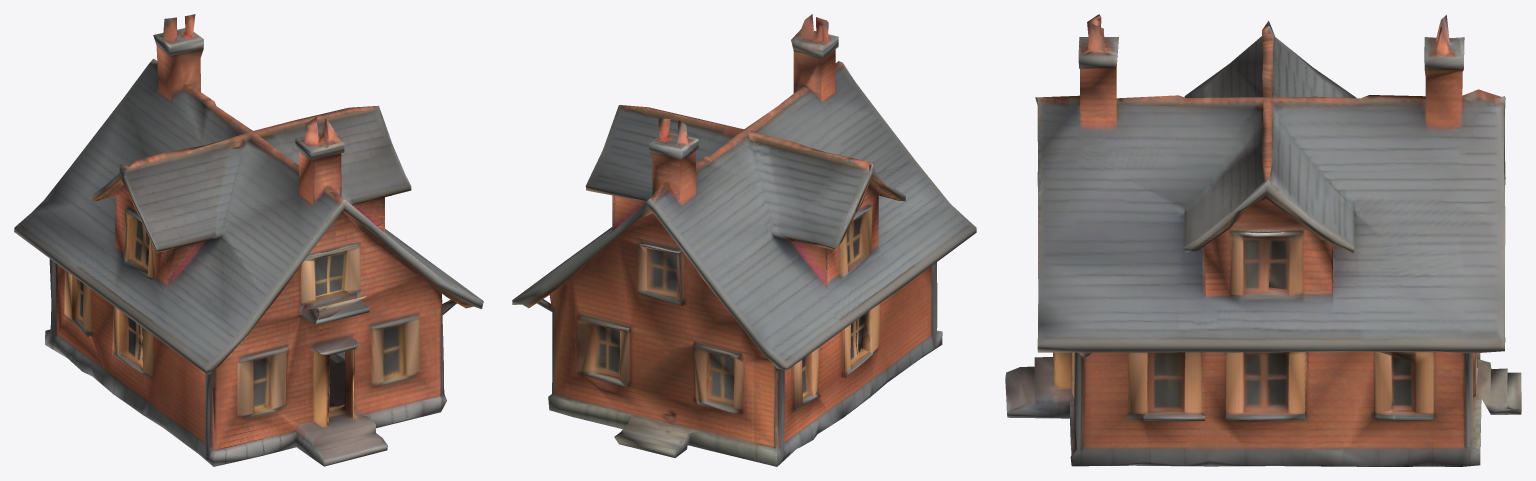
Rendered from object_4.002_lev2.glb.
The picture shows the model from 3 angles, left to right: view 1: azimuth 30°, elevation 25°; view 2: azimuth 150°, elevation 25°; view 3: azimuth 270°, elevation 25°; orthographic projection. The views are drawn at different scales.
Parts seen in each view (by area): view 1: object_4.002_lev2; view 2: object_4.002_lev2; view 3: object_4.002_lev2.
Boxes of the visible parts, x1=… form: object_4.002_lev2: x1=14, y1=14, x2=483, y2=466; object_4.002_lev2: x1=512, y1=14, x2=976, y2=466; object_4.002_lev2: x1=1005, y1=14, x2=1521, y2=466.
Bounding box in the file's own units: 13.46 × 14.48 × 17.71.
Materials: 1 (1 with a texture image).
